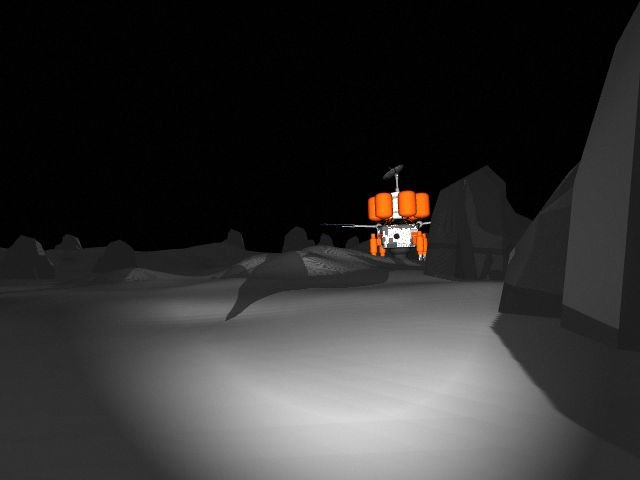homebase: (318, 163, 471, 264)
